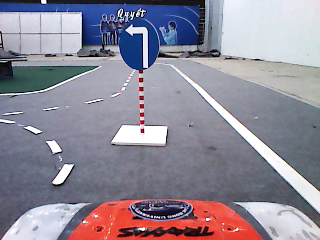turn: (115, 16, 160, 72)
